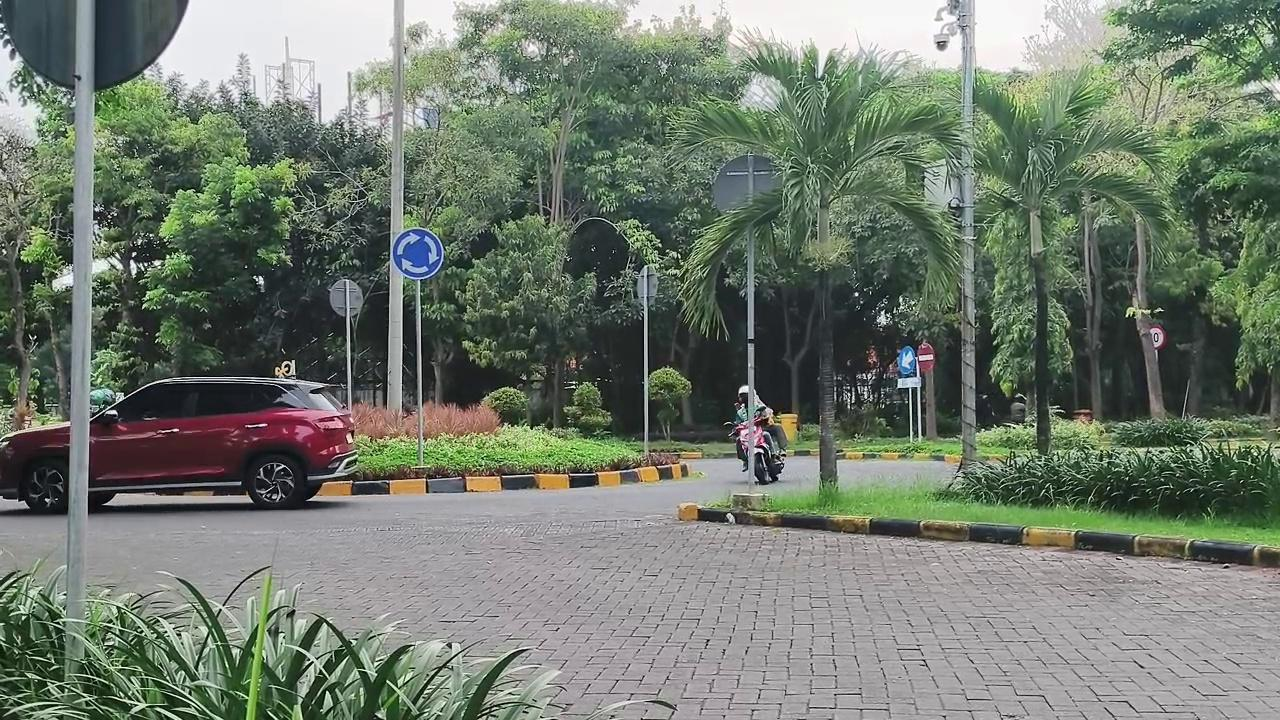Helmet: (754, 393, 787, 457)
Motor: (726, 418, 784, 484)
